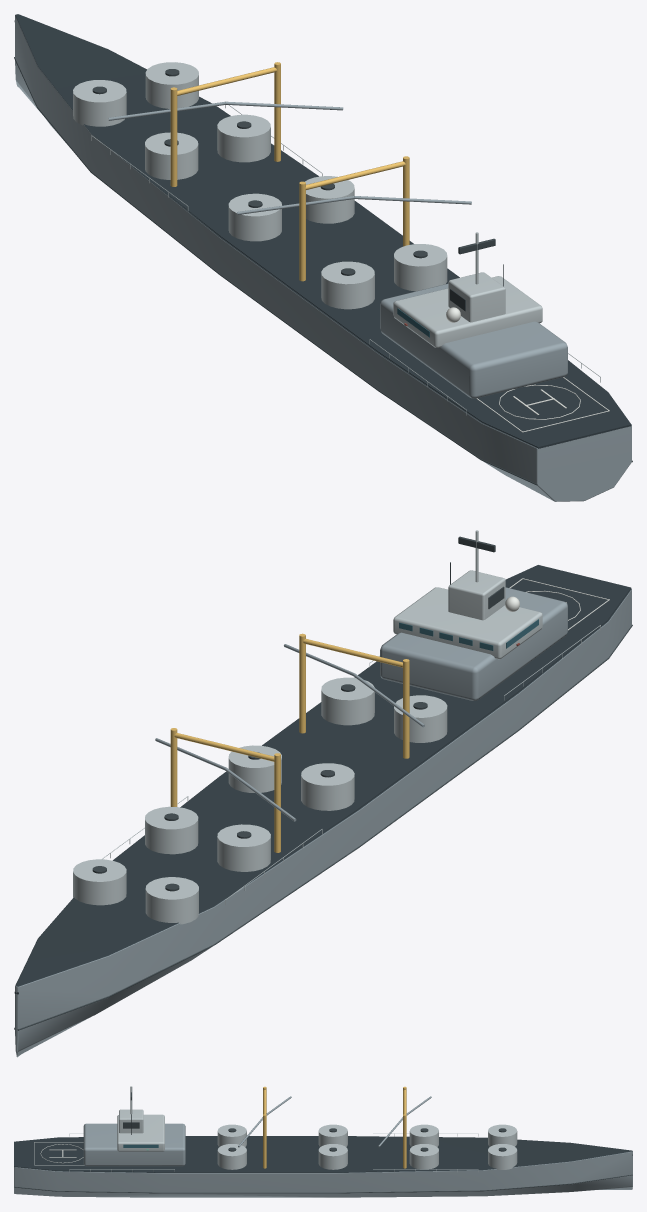
The model's file is generic-supply.glb.
3 views of the same model, one above another, from view 1: azimuth 30°, elevation 25°; view 2: azimuth 150°, elevation 25°; view 3: azimuth 270°, elevation 25° (orthographic). The views are drawn at different scales.
Visible parts, largest first — view 1: supply_Hull, supply_MainDeck, supply_Superstructure, supply_Bridge, supply_CargoTank, supply_CargoTank.005, supply_CargoTank.001, supply_CargoTank.006, supply_CargoTank.002, supply_MastBase, supply_CargoTank.004, supply_CargoTank.007 (+4 smaller); view 2: supply_Hull, supply_MainDeck, supply_Superstructure, supply_Bridge, supply_CargoTank.002, supply_CargoTank.004, supply_CargoTank.005, supply_CargoTank.001, supply_CargoTank.006, supply_CargoTank.007, supply_MastBase, supply_CargoTank (+1 smaller); view 3: supply_Hull, supply_MainDeck, supply_Superstructure, supply_Bridge, supply_CargoTank.003, supply_CargoTank.001, supply_CargoTank.005, supply_CargoTank.007, supply_CargoTank.002, supply_CargoTank.004, supply_CargoTank.006, supply_CargoTank (+5 smaller).
Boxes of the visible parts, left/top/right/bottom form: supply_Hull: left=15, top=14, right=631, bottom=501; supply_MainDeck: left=14, top=20, right=631, bottom=448; supply_Superstructure: left=380, top=283, right=567, bottom=398; supply_Bridge: left=393, top=276, right=542, bottom=347; supply_CargoTank: left=321, top=261, right=374, bottom=309; supply_CargoTank.005: left=217, top=114, right=270, bottom=162; supply_CargoTank.001: left=394, top=244, right=447, bottom=291; supply_CargoTank.006: left=73, top=80, right=126, bottom=126; supply_CargoTank.002: left=228, top=193, right=281, bottom=241; supply_MastBase: left=448, top=272, right=505, bottom=322; supply_CargoTank.004: left=145, top=132, right=198, bottom=179; supply_CargoTank.007: left=145, top=62, right=198, bottom=108; supply_Hull: left=15, top=588, right=631, bottom=1057; supply_MainDeck: left=14, top=565, right=631, bottom=994; supply_Superstructure: left=380, top=587, right=567, bottom=700; supply_Bridge: left=393, top=587, right=542, bottom=659; supply_CargoTank.002: left=301, top=763, right=354, bottom=810; supply_CargoTank.004: left=217, top=824, right=270, bottom=871; supply_CargoTank.005: left=145, top=806, right=198, bottom=854; supply_CargoTank.001: left=321, top=677, right=374, bottom=725; supply_CargoTank.006: left=145, top=877, right=198, bottom=924; supply_CargoTank.007: left=73, top=859, right=126, bottom=905; supply_MastBase: left=448, top=570, right=505, bottom=620; supply_CargoTank: left=394, top=695, right=447, bottom=742; supply_Hull: left=14, top=1136, right=632, bottom=1197; supply_MainDeck: left=14, top=1136, right=632, bottom=1172; supply_Superstructure: left=83, top=1123, right=185, bottom=1166; supply_Bridge: left=117, top=1114, right=164, bottom=1151; supply_CargoTank.003: left=318, top=1144, right=347, bottom=1169; supply_CargoTank.001: left=217, top=1144, right=246, bottom=1169; supply_CargoTank.005: left=409, top=1144, right=438, bottom=1169; supply_CargoTank.007: left=488, top=1144, right=517, bottom=1169; supply_CargoTank.002: left=318, top=1124, right=347, bottom=1146; supply_CargoTank.004: left=409, top=1124, right=438, bottom=1146; supply_CargoTank.006: left=488, top=1124, right=517, bottom=1146; supply_CargoTank: left=217, top=1124, right=246, bottom=1146.
Bounding box in the file's own units: 36.23 × 35.04 × 190.
